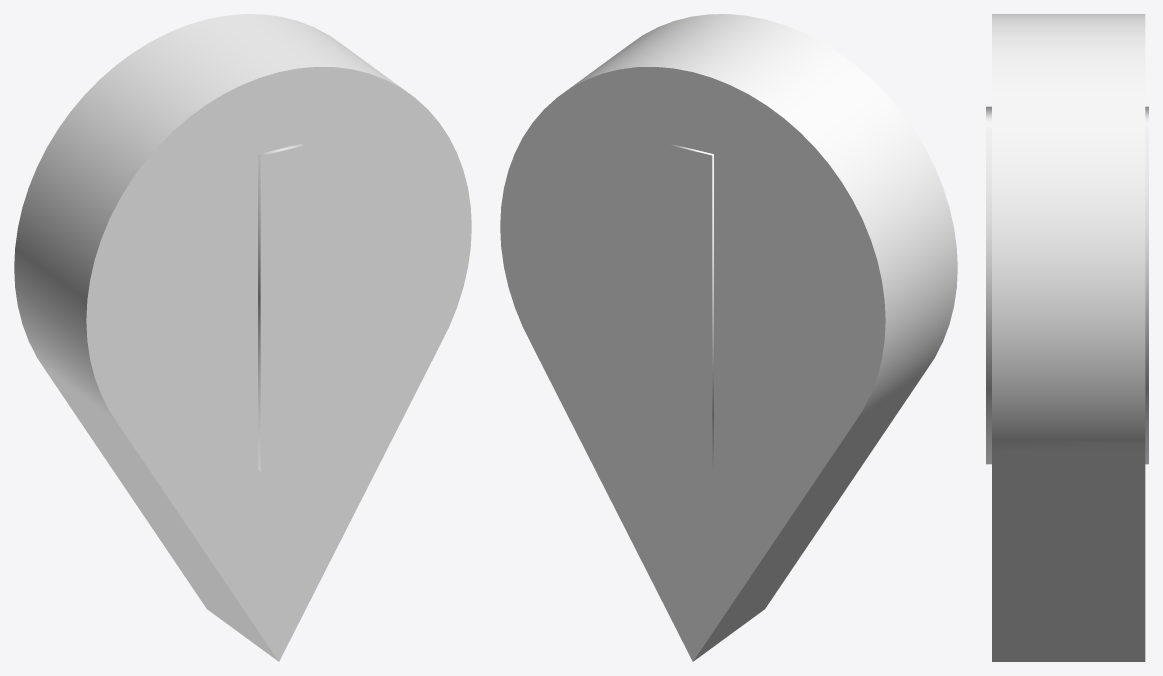
File: honkan_point.glb
The picture shows the model from 3 angles, left to right: view 1: azimuth 30°, elevation 25°; view 2: azimuth 150°, elevation 25°; view 3: azimuth 270°, elevation 25°; orthographic projection. The views are drawn at different scales.
Visible parts, largest first — view 1: 円, テキスト; view 2: 円, テキスト; view 3: 円, テキスト.
Part boxes in pixels (box(x1,y1,x2,y2)): 円: box(14, 14, 471, 661); テキスト: box(258, 143, 304, 471); 円: box(500, 14, 957, 661); テキスト: box(668, 143, 713, 471); 円: box(992, 14, 1145, 661); テキスト: box(986, 106, 1148, 464).
Size of the model in its own units: 2 by 2.92 by 0.689.
2 materials, 1 textured.
